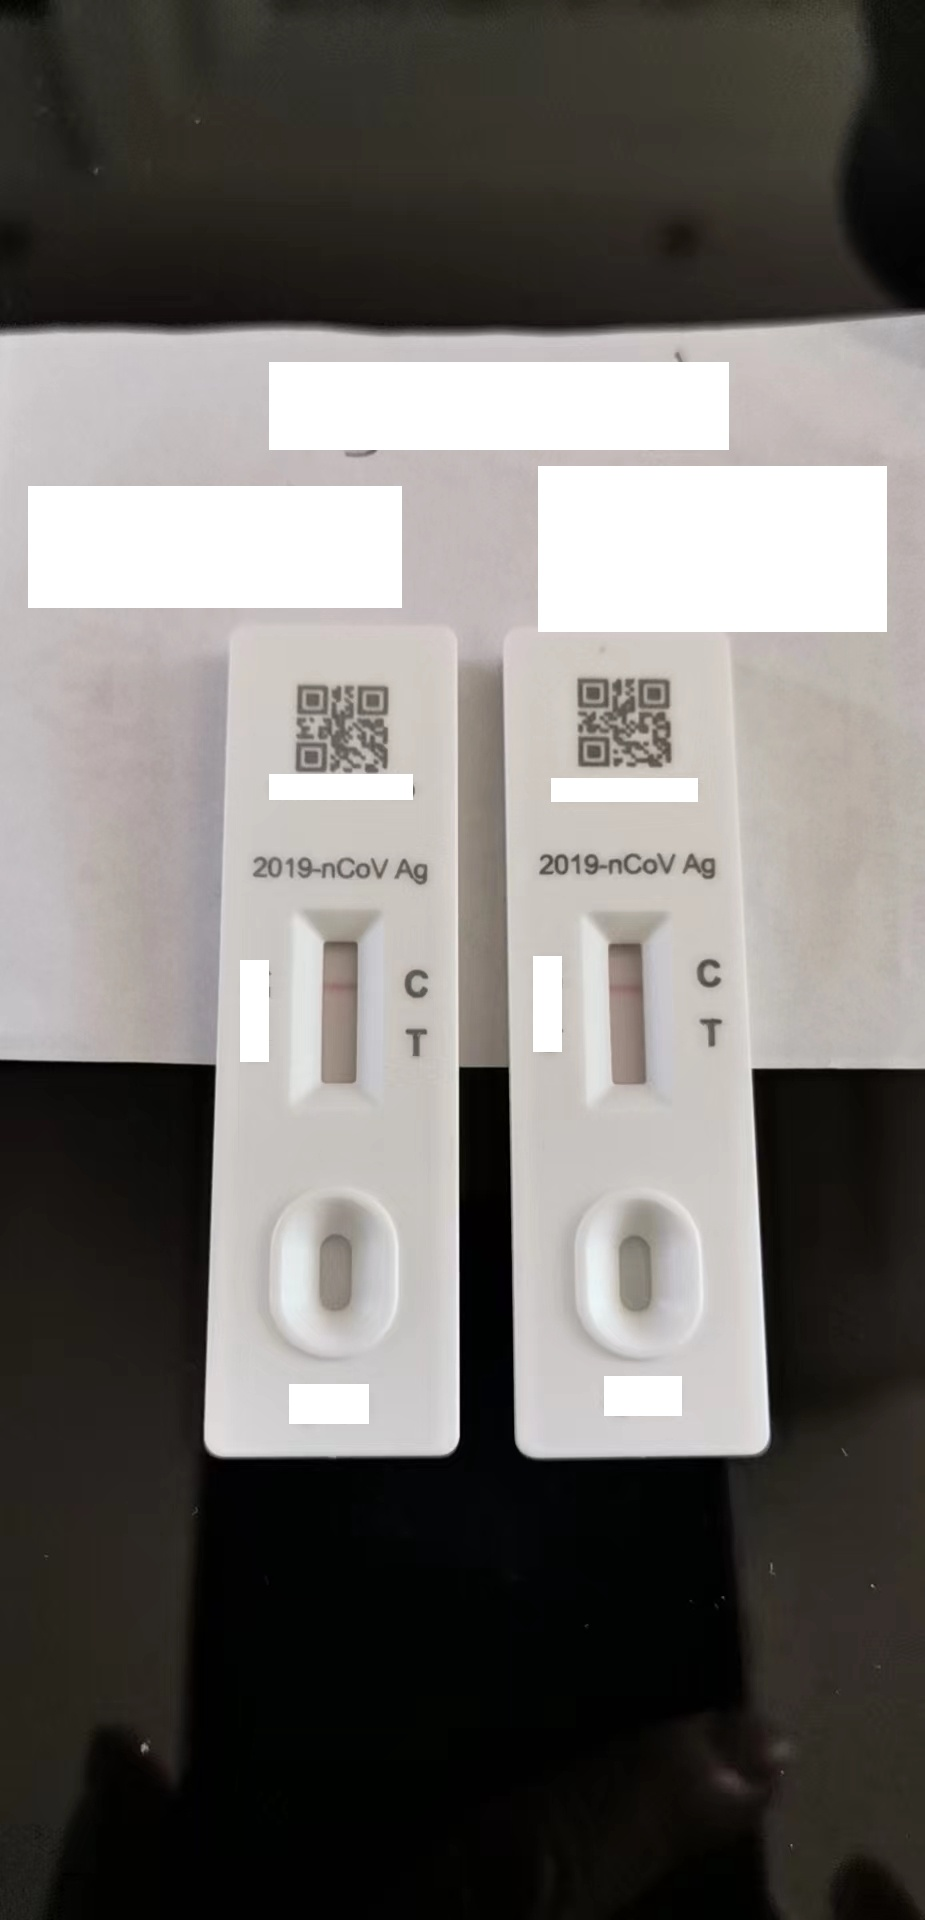negative: (298, 901, 383, 1102), (584, 910, 668, 1107)
